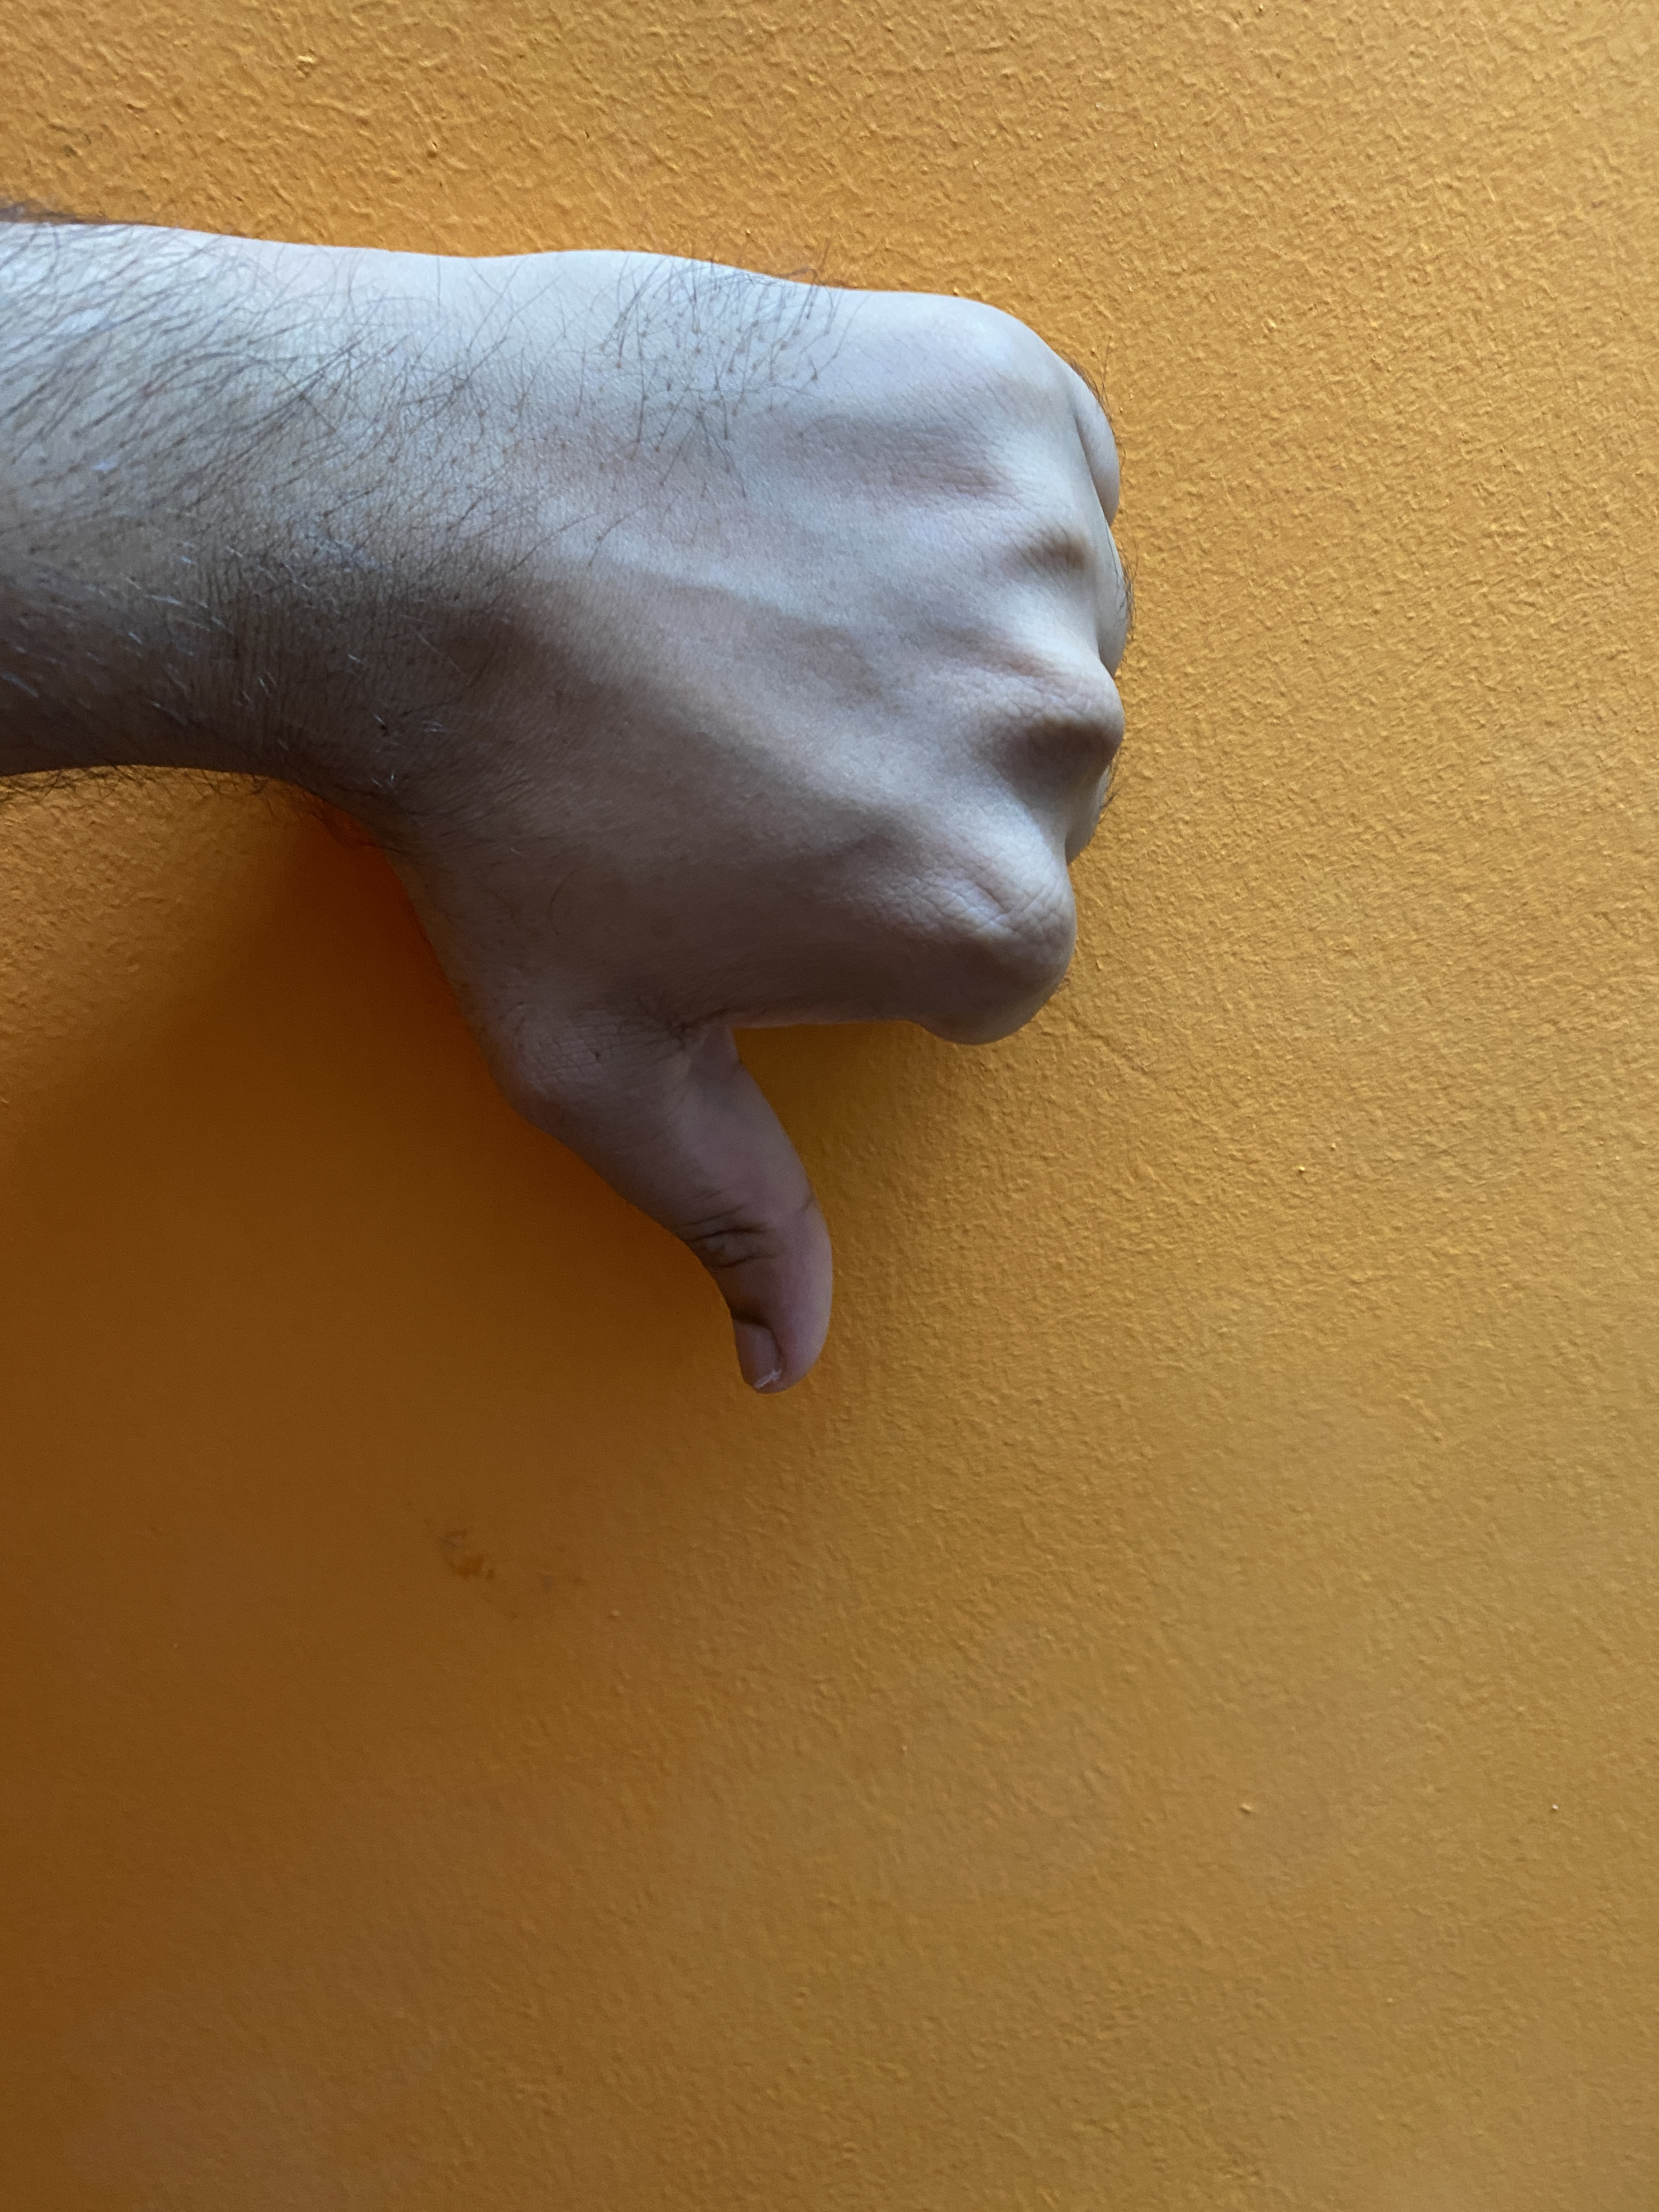down: (2, 134, 1197, 1430)
